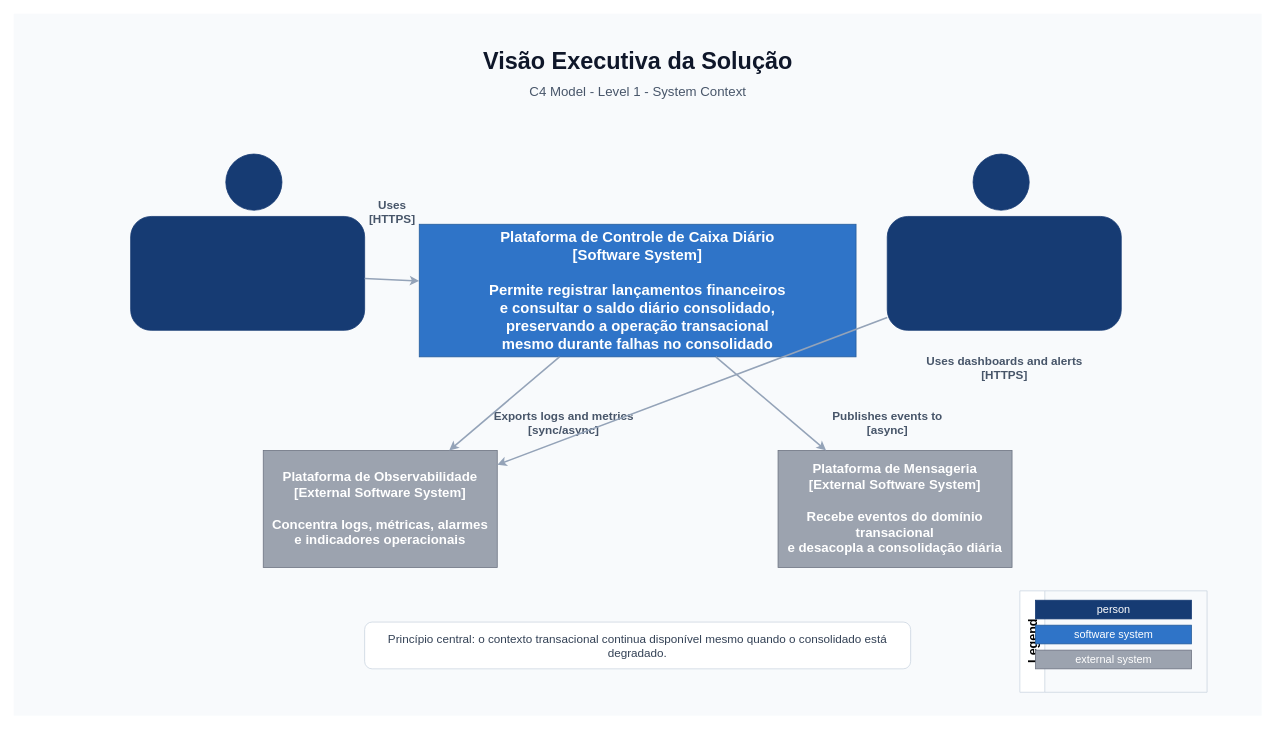
Some shapes in this 1275 by 729 pixel diagram are drawn without their labels. The centre of each missing label's shape, as x and y in pixels:
Comerciante / Operação Registra débitos e créditos e consulta o saldo diário: point 247,273
Equipe de Operações Monitora a saúde da solução e o backlog de processamento: point 1003,273
